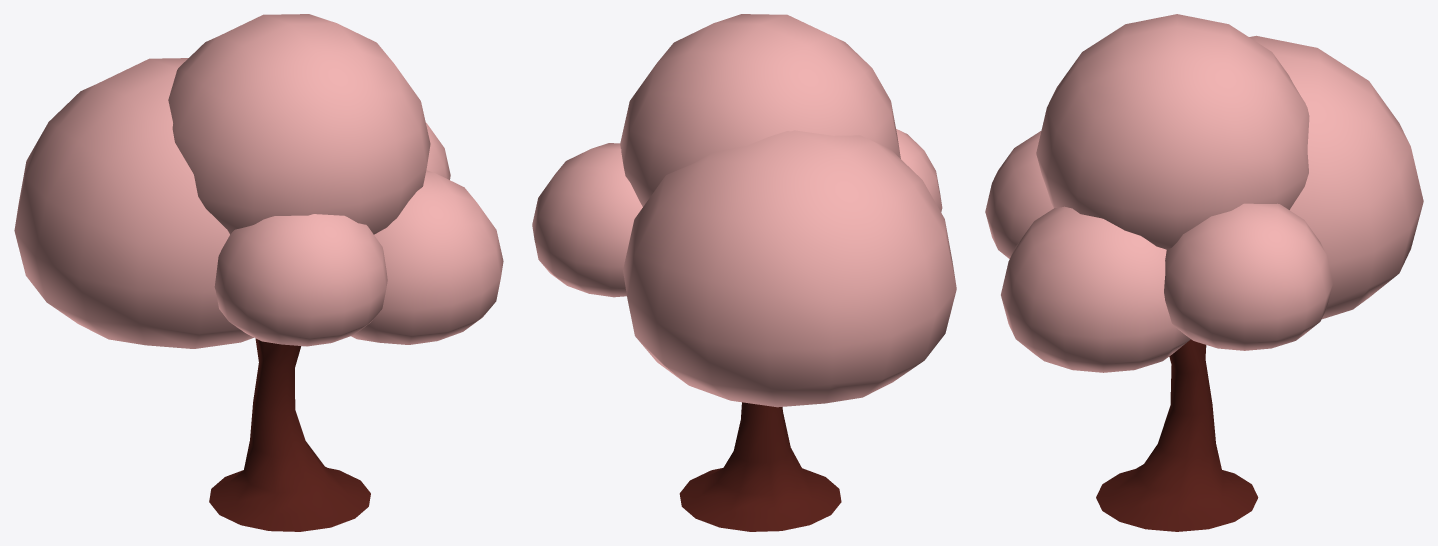
Rendered from 18_pink_tree.fbx.
3 renders of one model, left to right at view 1: azimuth 30°, elevation 25°; view 2: azimuth 150°, elevation 25°; view 3: azimuth 270°, elevation 25°, orthographic.
Parts seen in each view (by area): view 1: 18-pink_tree; view 2: 18-pink_tree; view 3: 18-pink_tree.
Boxes of the visible parts, x1,y1,x2,y2 form: 18-pink_tree: (14, 14, 503, 531); 18-pink_tree: (532, 14, 956, 531); 18-pink_tree: (985, 14, 1423, 531).
Size of the model in its own units: 411 by 467 by 394.
